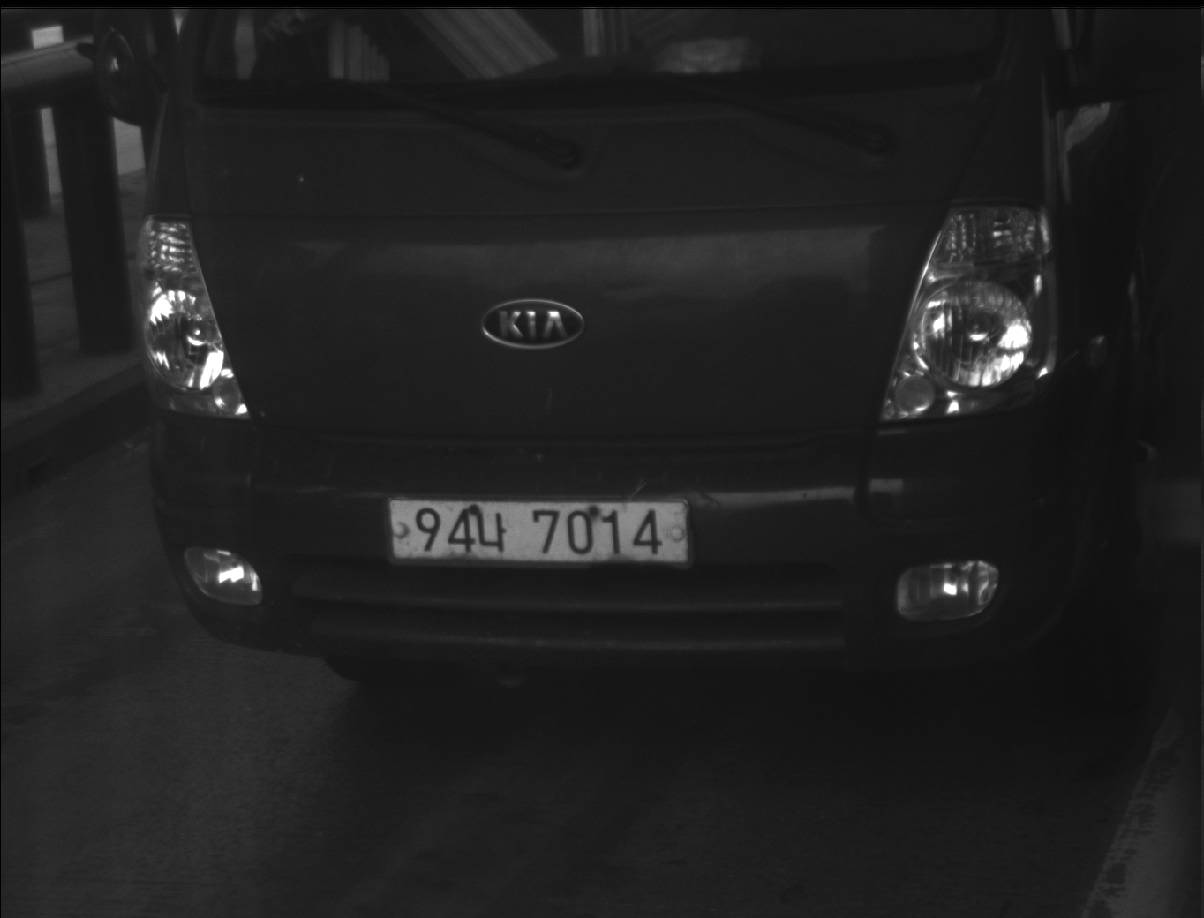car: (91, 1, 1199, 689)
plate: (385, 494, 692, 566)
